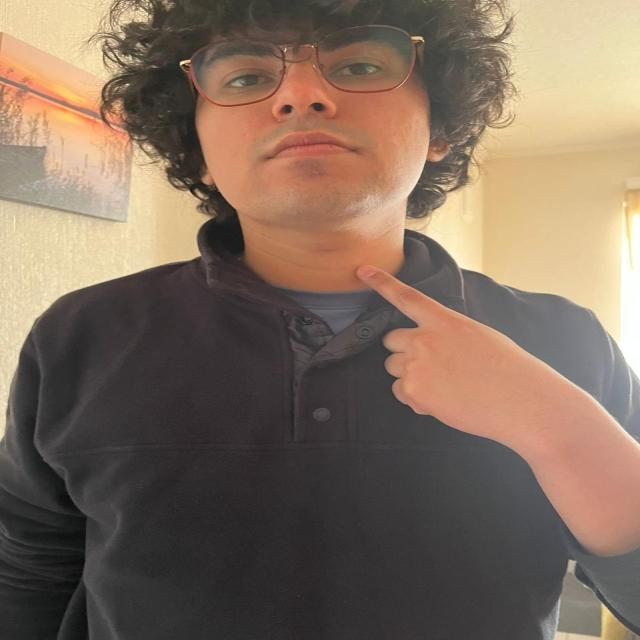Q: (331, 240, 592, 456)
